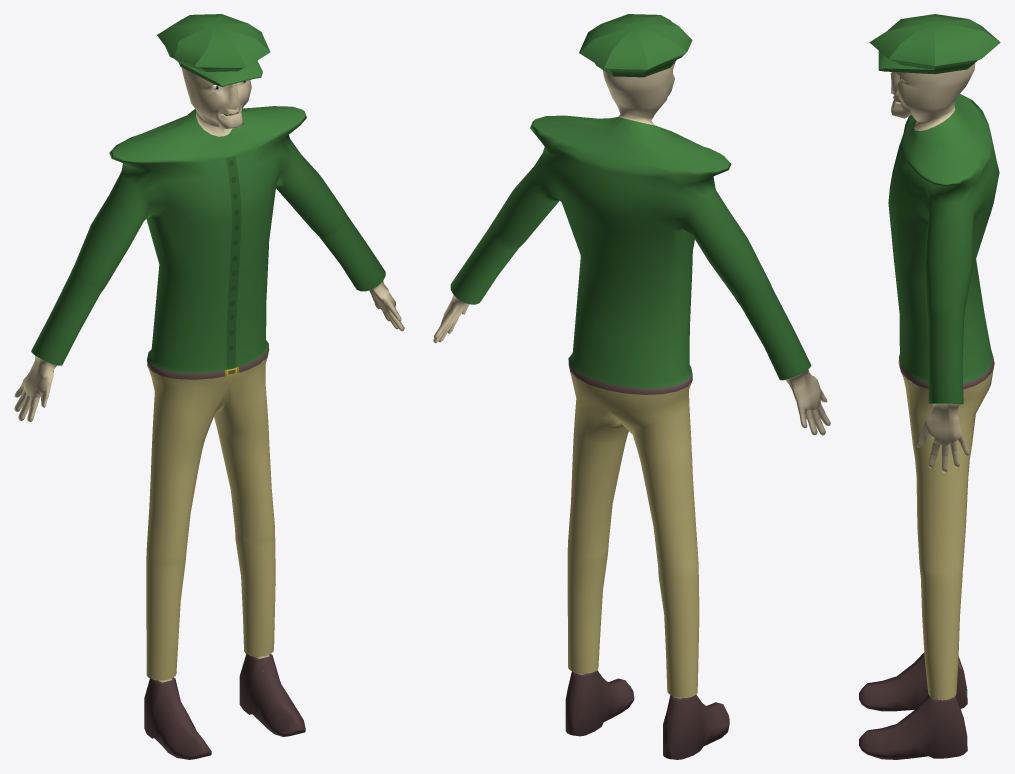
File: Character_2_Still.fbx
3 renders of one model, left to right at view 1: azimuth 30°, elevation 25°; view 2: azimuth 150°, elevation 25°; view 3: azimuth 270°, elevation 25°, orthographic.
Parts seen in each view (by area): view 1: Body_Geom, Cap_Geom; view 2: Body_Geom, Cap_Geom; view 3: Body_Geom, Cap_Geom.
Part boxes in pixels (bbox=[...]): Body_Geom: bbox=[14, 67, 404, 759]; Cap_Geom: bbox=[157, 14, 270, 86]; Body_Geom: bbox=[433, 62, 830, 759]; Cap_Geom: bbox=[579, 14, 692, 77]; Body_Geom: bbox=[859, 63, 999, 759]; Cap_Geom: bbox=[869, 14, 1000, 74].
Bounding box in the file's own units: 1.03 × 1.81 × 0.3303.
Materials: 3 (3 with a texture image).
